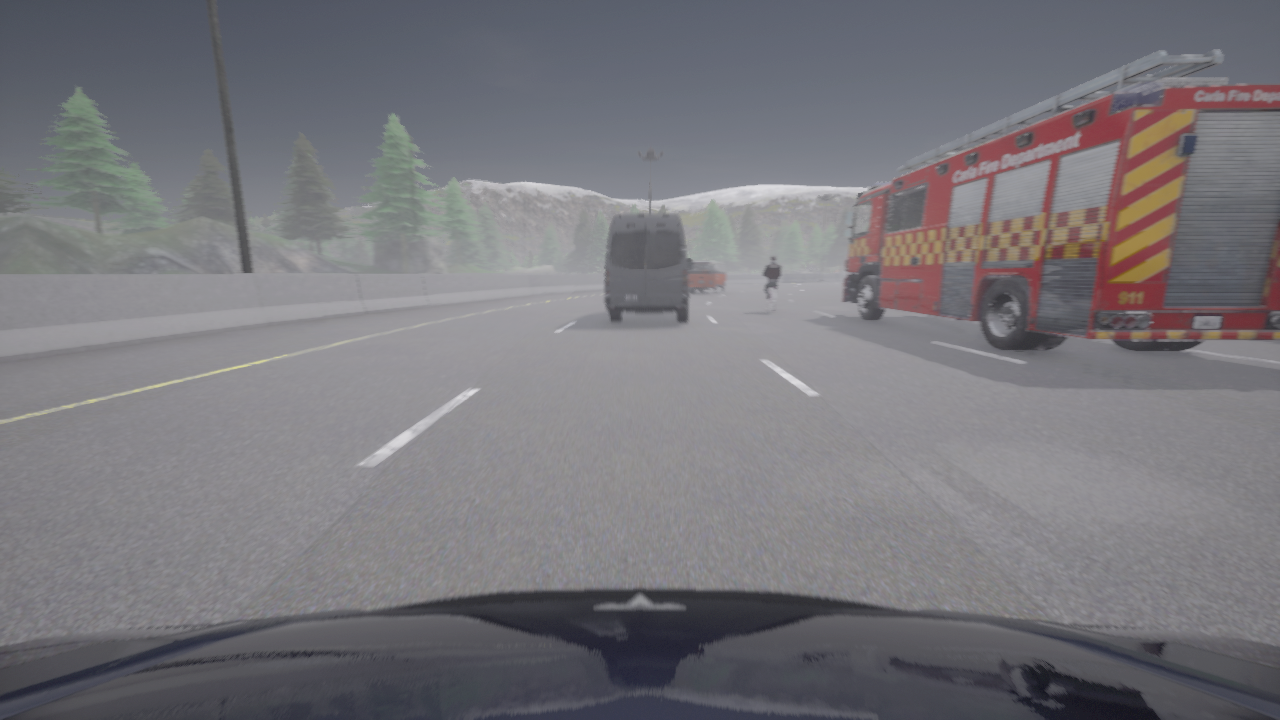cyclist: (0, 588, 1279, 719), (841, 50, 1279, 351), (605, 213, 692, 321), (688, 261, 727, 293), (766, 287, 775, 313)
